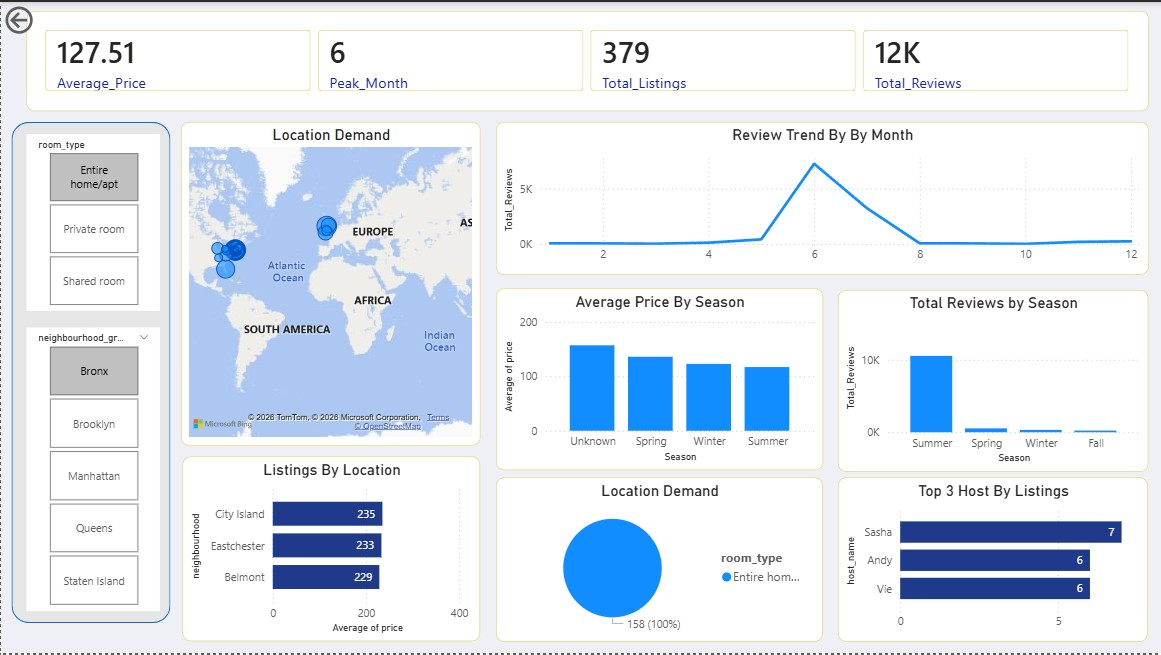

The page's visual inventory and layout, read from the dashboard file:
{"tool":"powerbi","page":{"name":"Page 1","canvas":[1280,720],"ordinal":0},"visuals":[{"type":"cardVisual","fields":{"Data":["AB_NYC_clean.Average_Price","AB_NYC_clean.Peak_Month","AB_NYC_clean.Total_Listings","AB_NYC_clean.Total_Reviews"]},"box":[28.2,9.9,1239,111],"z":0},{"type":"shape","box":[11.6,132.5,175.6,553.3],"z":1000},{"type":"actionButton","box":[0,0,100,40],"z":2000},{"type":"slicer","fields":{"Values":["AB_NYC_clean.room_type"]},"box":[28.2,145.8,147.4,195.5],"z":3000},{"type":"slicer","fields":{"Values":["AB_NYC_clean.neighbourhood_group"]},"box":[28.2,359.5,147.4,313.1],"z":4000},{"type":"lineChart","title":"Review Trend By By Month","fields":{"Category":["AB_NYC_clean.Month"],"Y":["AB_NYC_clean.Total_Reviews"]},"box":[546.6,132.5,720.6,169],"z":5000},{"type":"clusteredColumnChart","title":"Total Reviews by Season","fields":{"Category":["AB_NYC_clean.Season"],"Y":["AB_NYC_clean.Total_Reviews"]},"box":[924.3,318,342.9,200.4],"z":6000},{"type":"clusteredColumnChart","title":"Average Price By Season","fields":{"Y":["Avg(AB_NYC_clean.price)"],"Category":["AB_NYC_clean.Season"]},"box":[546.6,316.4,361.1,200.4],"z":7000},{"type":"map","title":"Location Demand","fields":{"Size":["Sum(AB_NYC_clean.number_of_reviews)"],"Category":["AB_NYC_clean.neighbourhood"]},"box":[198.4,132.3,330.7,357.2],"z":8000},{"type":"clusteredBarChart","title":"Listings By Location","fields":{"Category":["AB_NYC_clean.neighbourhood"],"Y":["Avg(AB_NYC_clean.price)"]},"box":[200.3,502.7,328.8,204.1],"z":9000},{"type":"pieChart","title":"Location Demand","fields":{"Category":["AB_NYC_clean.room_type"],"Y":["AB_NYC_clean.Average_Availability"]},"box":[546.1,525.4,360.9,181.4],"z":10000},{"type":"clusteredBarChart","title":"Top 3 Host By Listings","fields":{"Category":["AB_NYC_clean.host_name"],"Y":["AB_NYC_clean.Total_Listings"]},"box":[924.1,525.4,342,181.4],"z":11000}]}

Visuals, with their boxes on the page's 1280x720 design canvas (x1, y1, x2, y2). These are canvas units, not pixel positions in the 1161x655 screenshot, which may show the page scaled, cropped or inside an application window:
cardVisual - AB_NYC_clean.Average_Price x AB_NYC_clean.Peak_Month: {"left": 28, "top": 10, "right": 1267, "bottom": 121}
shape: {"left": 12, "top": 132, "right": 187, "bottom": 686}
actionButton: {"left": 0, "top": 0, "right": 100, "bottom": 40}
slicer - AB_NYC_clean.room_type: {"left": 28, "top": 146, "right": 176, "bottom": 341}
slicer - AB_NYC_clean.neighbourhood_group: {"left": 28, "top": 360, "right": 176, "bottom": 673}
"Review Trend By By Month" lineChart: {"left": 547, "top": 132, "right": 1267, "bottom": 302}
"Total Reviews by Season" clusteredColumnChart: {"left": 924, "top": 318, "right": 1267, "bottom": 518}
"Average Price By Season" clusteredColumnChart: {"left": 547, "top": 316, "right": 908, "bottom": 517}
"Location Demand" map: {"left": 198, "top": 132, "right": 529, "bottom": 490}
"Listings By Location" clusteredBarChart: {"left": 200, "top": 503, "right": 529, "bottom": 707}
"Location Demand" pieChart: {"left": 546, "top": 525, "right": 907, "bottom": 707}
"Top 3 Host By Listings" clusteredBarChart: {"left": 924, "top": 525, "right": 1266, "bottom": 707}
